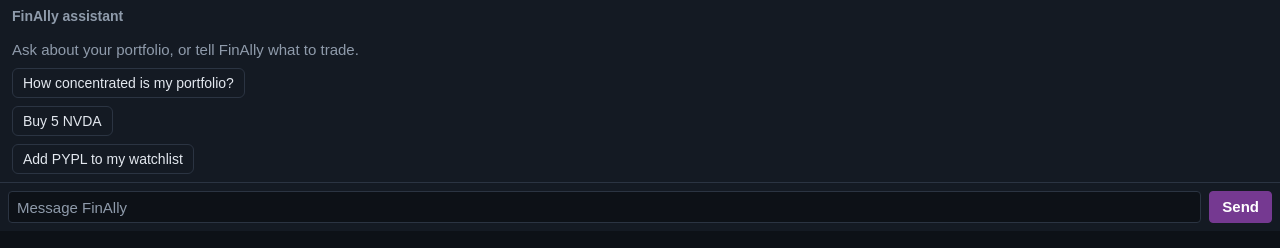
ChatPanel › shows the reply with executed actions and refreshes the account
Step 1. Type "Buy 5 NVDA" into the field labelled "Message FinAlly" → (605, 207), box [8,191,1201,223]
Then press Enter
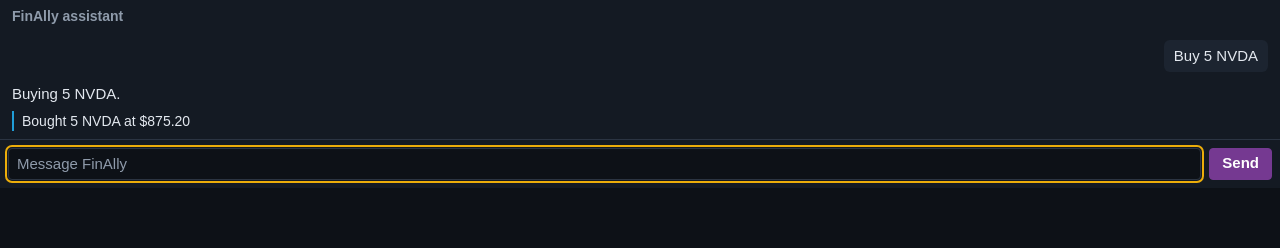
Now the text "Buying 5 NVDA." is shown, box [12,85,120,102]
Now the list item "Bought 5 NVDA at $875.20" is shown, box [12,110,1268,130]
